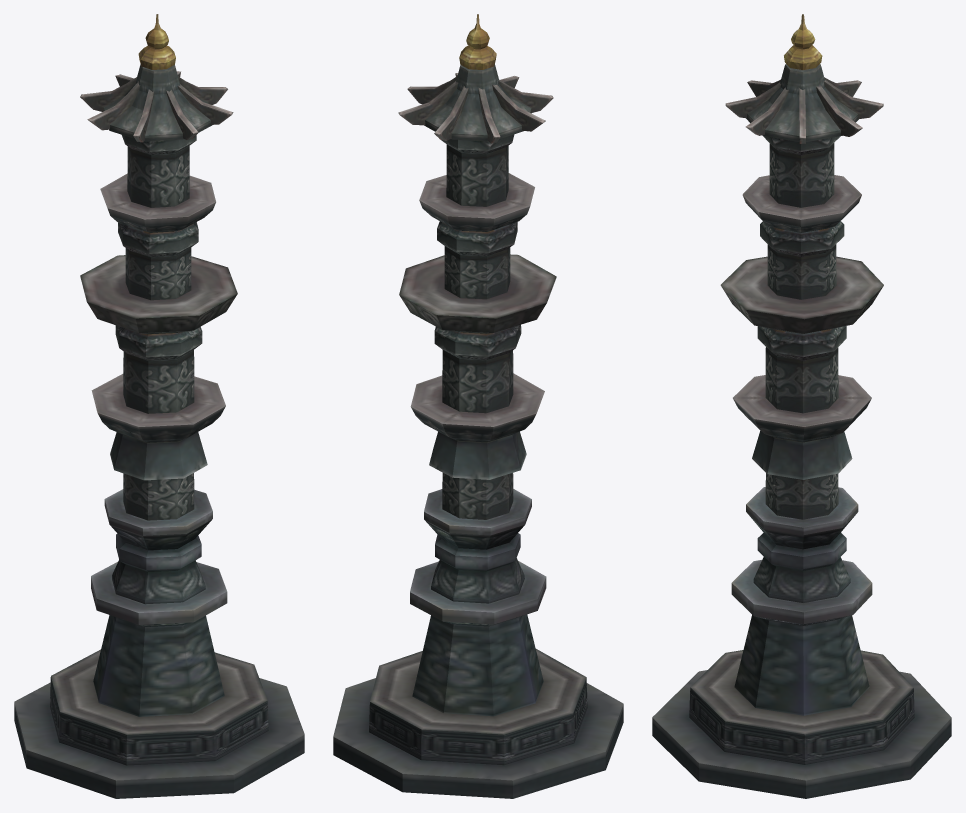
3 views of the same model, side by side, from view 1: azimuth 30°, elevation 25°; view 2: azimuth 150°, elevation 25°; view 3: azimuth 270°, elevation 25° (orthographic).
Parts seen in each view (by area): view 1: YC_31; view 2: YC_31; view 3: YC_31.
Boxes of the visible parts, x1,y1,x2,y2 form: YC_31: (14, 14, 304, 798); YC_31: (333, 14, 623, 798); YC_31: (652, 14, 951, 798).
Bounding box in the file's own units: 218 × 580 × 218.
1 material, 1 textured.
